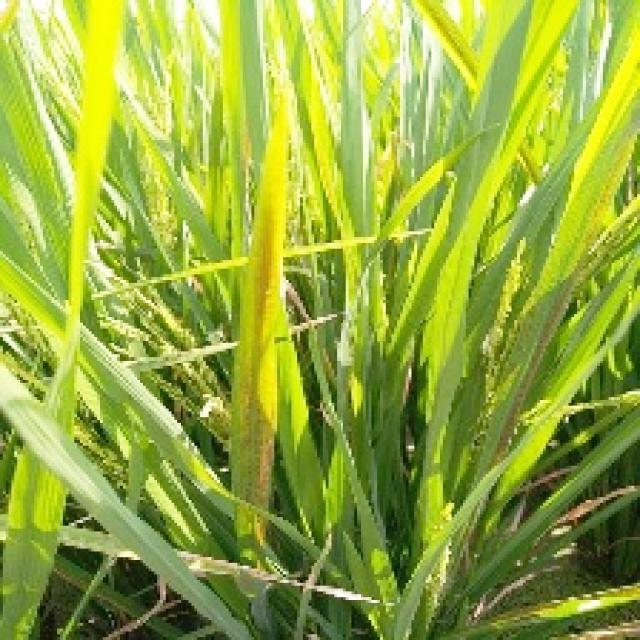health: (0, 4, 118, 299)
